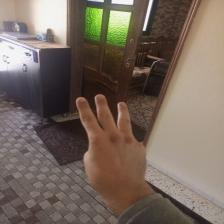five: (69, 90, 154, 193)
